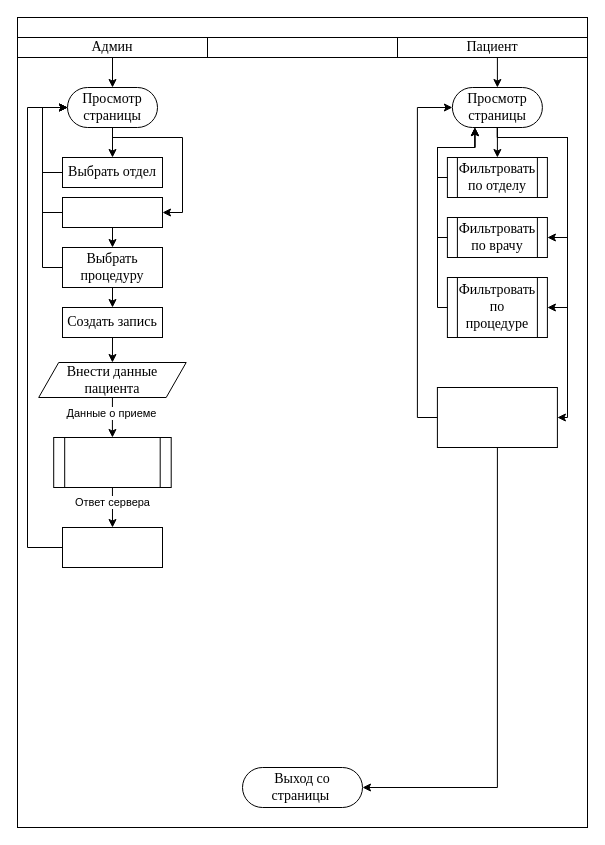
This 605x845 diagram has some shape labels left out. The shapes that lost their labels are listed below. From the top down, each one's centre as x and y in pixels, then its label:
point 302,27: Календарь
point 302,47: Доктор
point 112,212: Выбрать врача
point 496,417: Просмотреть информацию о приеме
point 112,462: POST запрос на /appointment
point 112,547: Обновление данных
